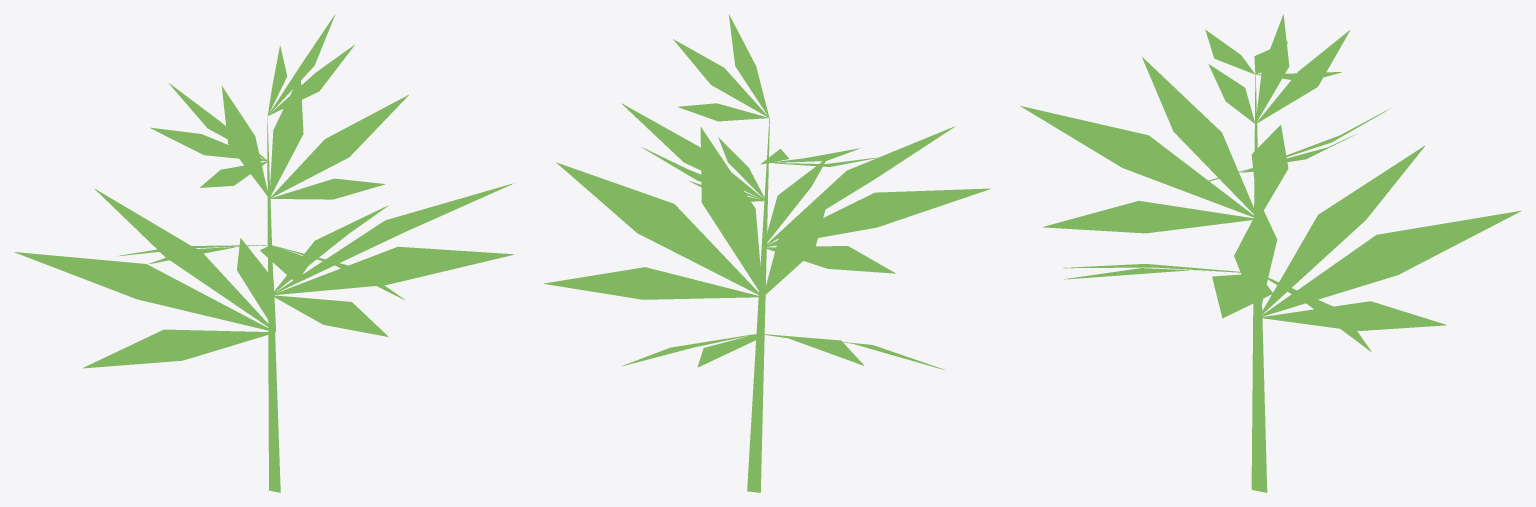
Rendered from Plant_i_TwoS_05.fbx.
The picture shows the model from 3 angles, left to right: view 1: azimuth 30°, elevation 25°; view 2: azimuth 150°, elevation 25°; view 3: azimuth 270°, elevation 25°; orthographic projection. The views are drawn at different scales.
Visible parts, largest first — view 1: Plant_i_TwoS_05; view 2: Plant_i_TwoS_05; view 3: Plant_i_TwoS_05.
Boxes of the visible parts, <box> form: Plant_i_TwoS_05: <box>14,15,513,492</box>; Plant_i_TwoS_05: <box>543,14,990,492</box>; Plant_i_TwoS_05: <box>1020,14,1520,492</box>.
Bounding box in the file's own units: 0.3989 × 0.4153 × 0.3868.
